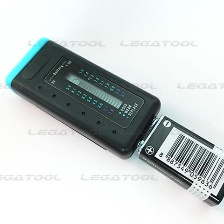battery: (133, 111, 224, 208)
